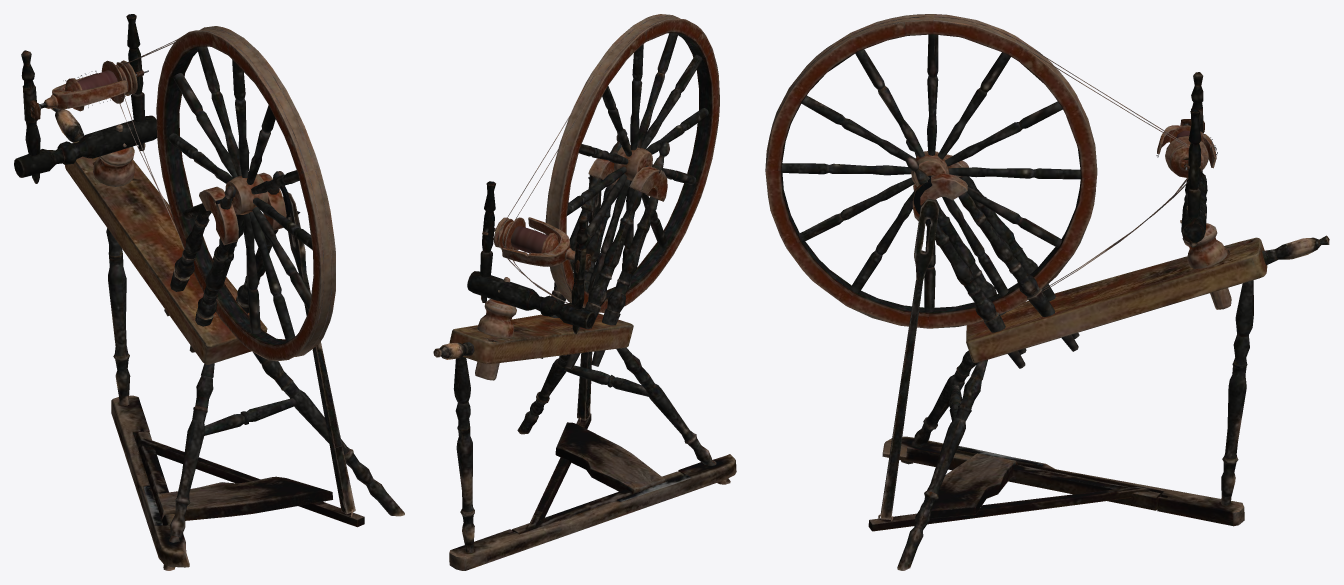
File: spinning_wheel_01.glb
3 renders of one model, left to right at view 1: azimuth 30°, elevation 25°; view 2: azimuth 150°, elevation 25°; view 3: azimuth 270°, elevation 25°, orthographic. The views are drawn at different scales.
Visible parts, largest first — view 1: spinning_wheel_01; view 2: spinning_wheel_01; view 3: spinning_wheel_01.
Boxes of the visible parts, x1,y1,x2,y2 form: spinning_wheel_01: [14, 14, 404, 570]; spinning_wheel_01: [433, 14, 736, 570]; spinning_wheel_01: [765, 14, 1329, 570].
Size of the model in its own units: 0.4894 by 0.9662 by 1.02.
Materials: 1 (1 with a texture image).
